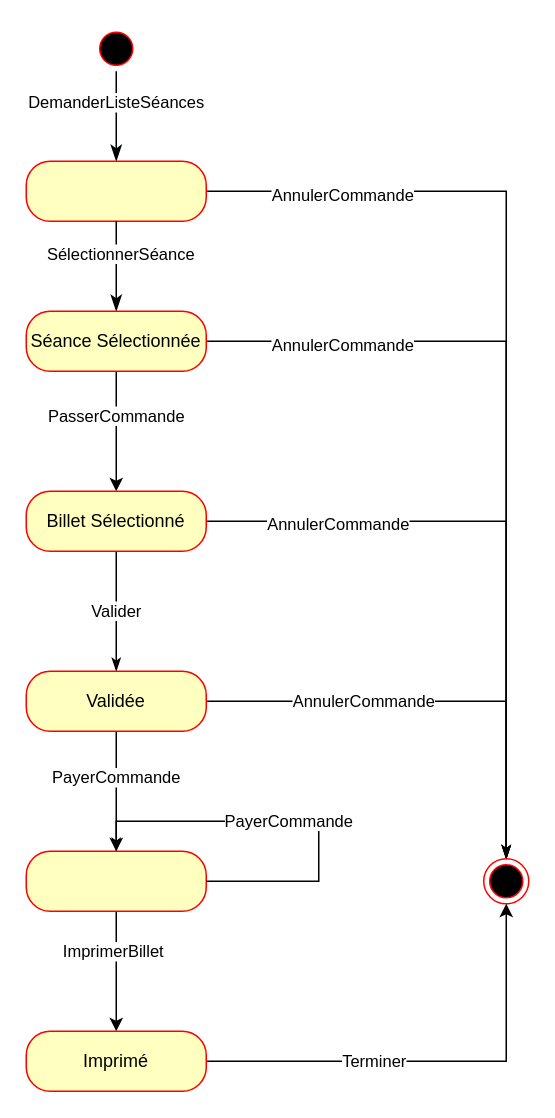
Some shapes in this 555 by 1118 pixel diagram are drawn without their labels. The shapes that lost their labels are listed below. From the top down, each one's centre as x and y in pixels, then its label:
the point at 115,190: Consultée
the point at 115,880: Payée
